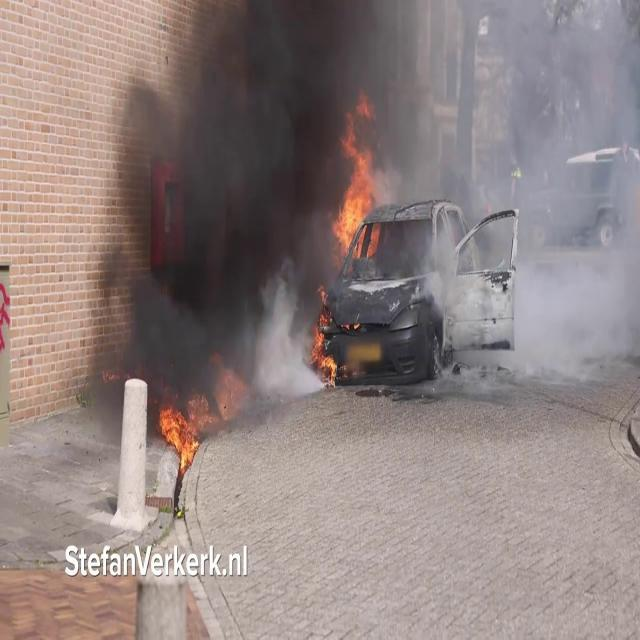Fire: (331, 107, 388, 260), (156, 387, 217, 473), (308, 288, 338, 382)
Smoke: (90, 0, 408, 392), (393, 1, 640, 386)
